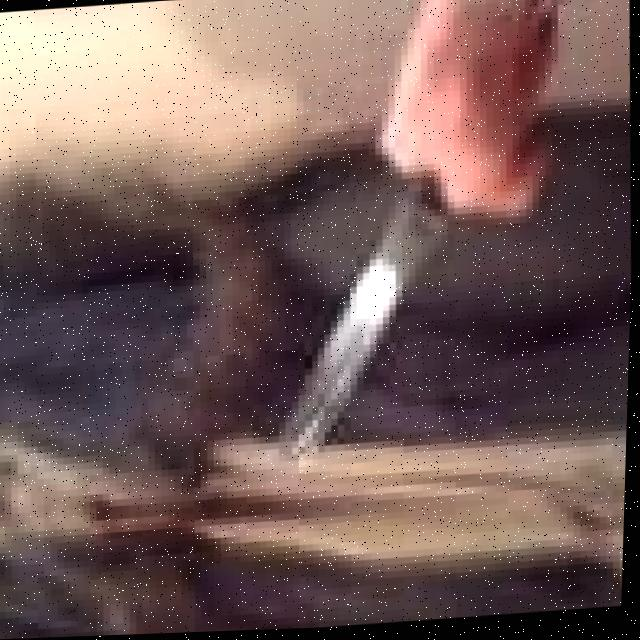knife: (269, 176, 467, 460)
